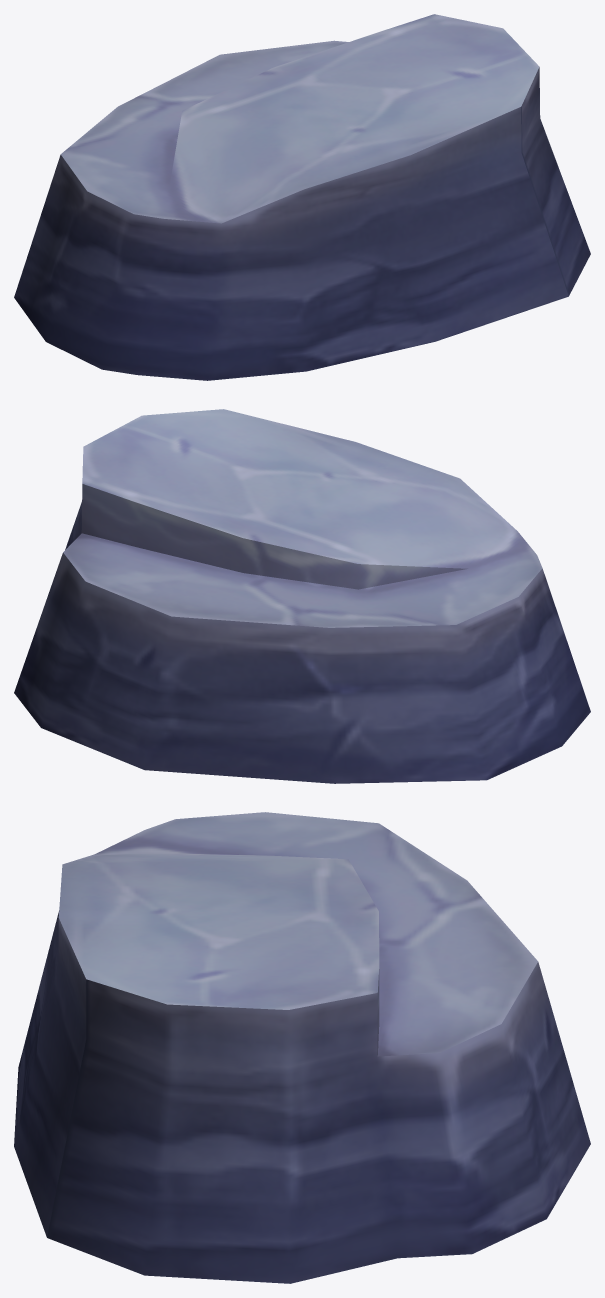
The model's file is Snake_stone_02.fbx.
3 views of the same model, one above another, from view 1: azimuth 30°, elevation 25°; view 2: azimuth 150°, elevation 25°; view 3: azimuth 270°, elevation 25° (orthographic). The views are drawn at different scales.
Parts seen in each view (by area): view 1: Snake_stone_02; view 2: Snake_stone_02; view 3: Snake_stone_02.
Part boxes in pixels (x1,y1,x2,y2): Snake_stone_02: (14, 14, 590, 380); Snake_stone_02: (14, 409, 590, 783); Snake_stone_02: (14, 812, 590, 1283).
Bounding box in the file's own units: 151 × 54.03 × 115.
